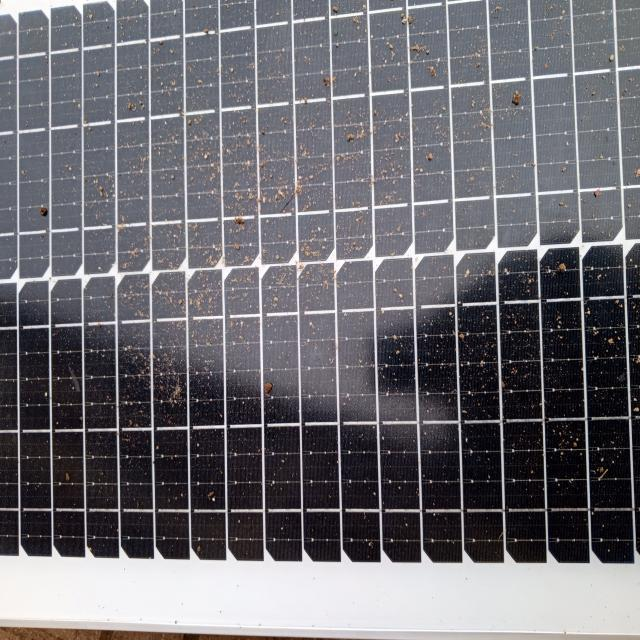Surface Contaminant: (10, 8, 635, 572)
